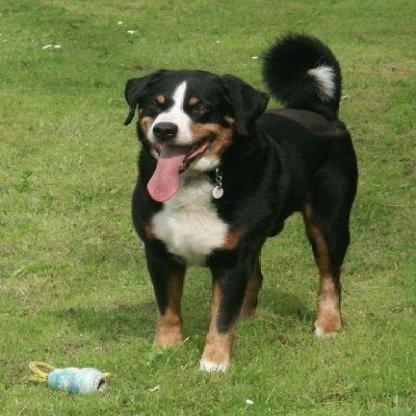Appenzeller: (119, 32, 356, 370)
